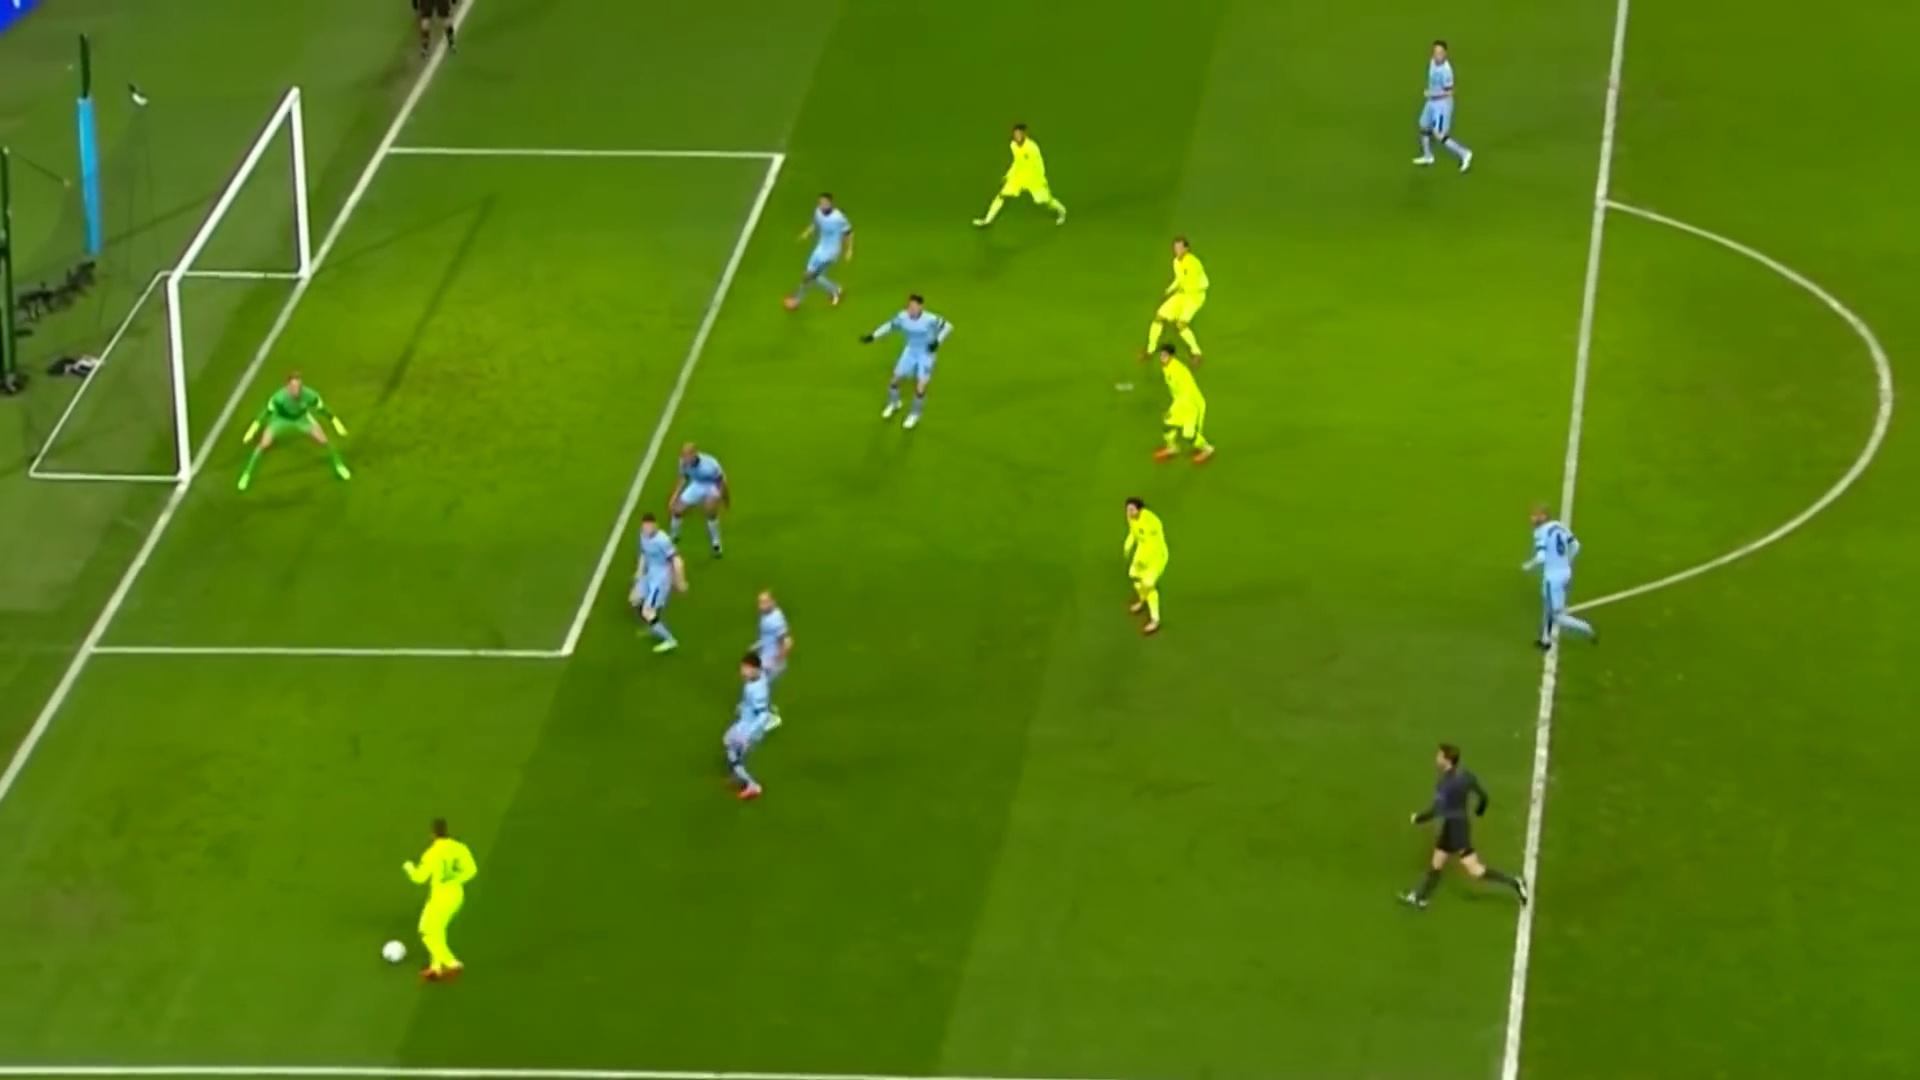ball: (378, 936, 410, 969)
goalkeeper: (234, 369, 354, 494)
player: (857, 289, 958, 433), (399, 813, 479, 988), (1519, 498, 1606, 651), (967, 121, 1071, 231), (1136, 232, 1213, 370), (624, 511, 694, 658), (1409, 36, 1475, 178), (781, 188, 856, 312), (1148, 341, 1220, 470), (664, 440, 734, 563), (721, 649, 774, 804), (1118, 494, 1174, 635), (749, 586, 797, 719)
referee: (1395, 738, 1531, 917), (407, 0, 465, 63)
